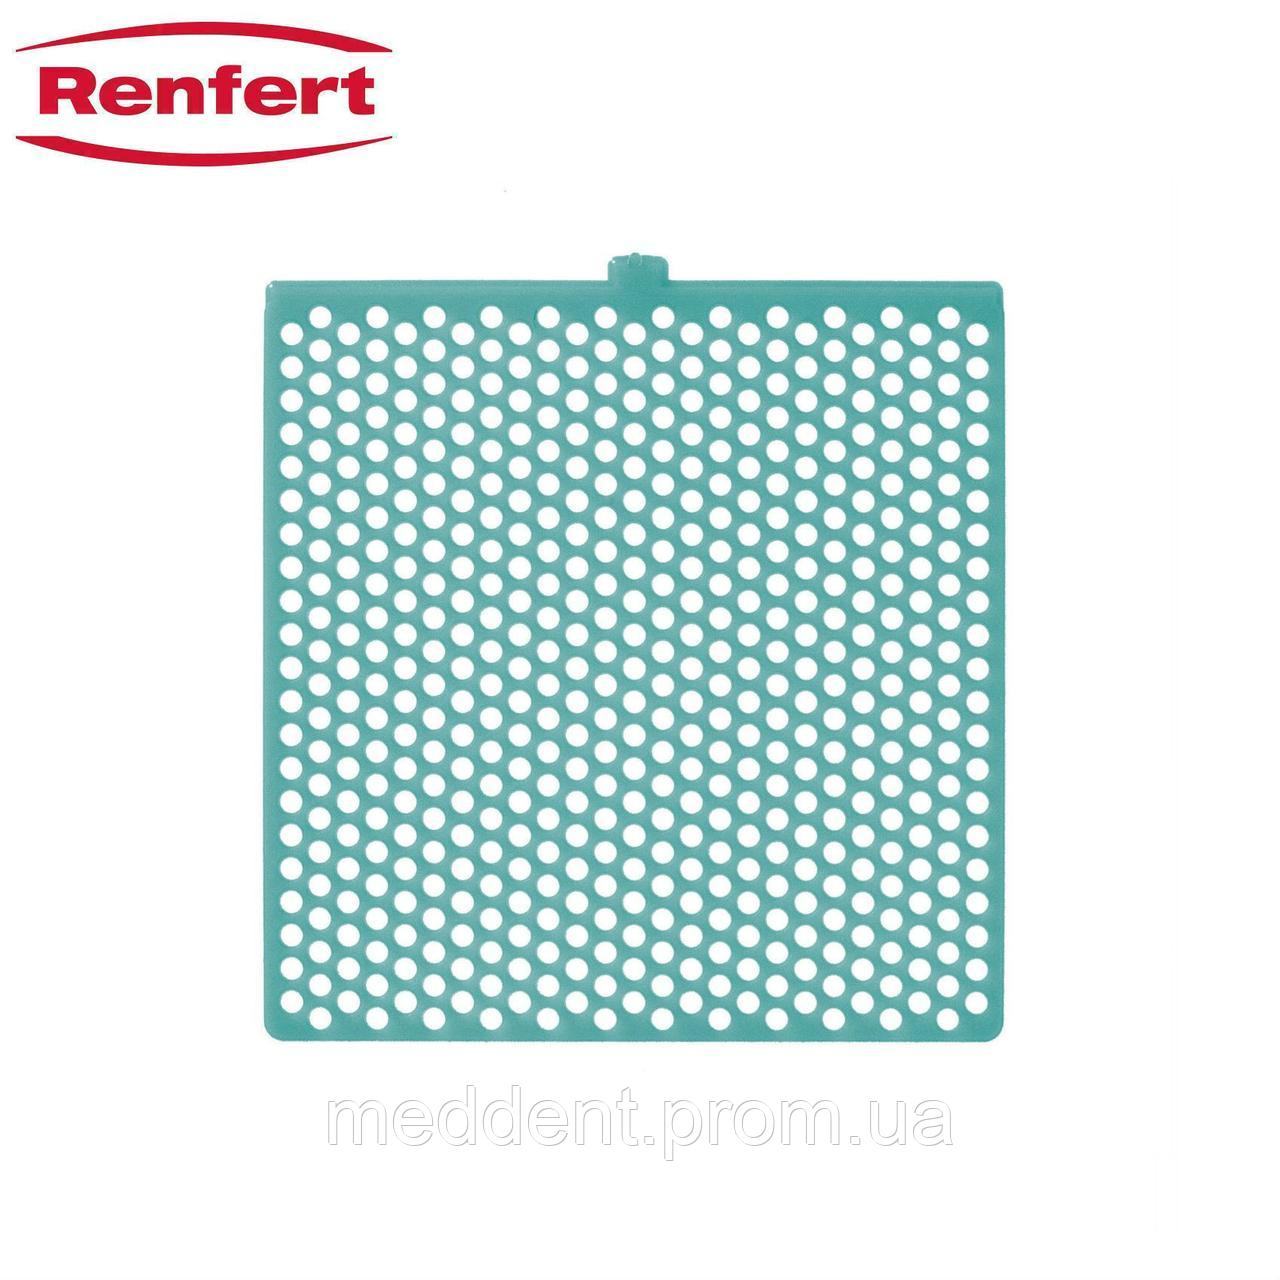Hole: (272, 617, 307, 649), (273, 450, 306, 483), (273, 349, 307, 381), (475, 297, 506, 331), (302, 299, 335, 331), (274, 318, 307, 349), (361, 298, 393, 329), (533, 299, 565, 331), (273, 518, 306, 549), (274, 551, 305, 584), (561, 685, 592, 717), (505, 719, 536, 751), (305, 436, 336, 467), (334, 484, 365, 516), (332, 518, 363, 549), (304, 937, 335, 967), (447, 517, 477, 549), (476, 568, 508, 599), (504, 619, 536, 649), (591, 502, 621, 533), (905, 418, 935, 450), (333, 720, 363, 750), (361, 904, 392, 934), (275, 920, 306, 951), (964, 418, 994, 449), (877, 301, 907, 332), (275, 417, 307, 447), (304, 601, 335, 631), (275, 585, 307, 614), (275, 787, 307, 816), (274, 821, 306, 850), (392, 685, 421, 716), (420, 401, 449, 433), (964, 318, 993, 349), (791, 887, 824, 915), (274, 384, 305, 414), (305, 401, 334, 431), (304, 469, 334, 498), (306, 535, 335, 565), (361, 837, 392, 866), (333, 920, 363, 949), (275, 987, 306, 1016), (306, 1003, 335, 1034), (418, 504, 449, 533), (418, 437, 449, 467), (418, 300, 448, 331), (504, 352, 535, 381), (563, 353, 593, 382), (475, 403, 505, 433), (563, 452, 593, 482), (590, 836, 619, 866), (706, 369, 736, 399), (334, 316, 362, 348), (275, 887, 307, 915), (392, 784, 420, 816), (533, 435, 561, 467), (535, 502, 563, 533), (561, 554, 593, 583), (646, 1005, 678, 1033), (847, 955, 879, 983), (847, 888, 879, 917), (617, 887, 648, 915), (876, 972, 908, 999), (590, 905, 622, 932), (704, 604, 737, 631), (675, 554, 708, 581), (305, 502, 334, 531), (334, 587, 363, 617), (334, 620, 363, 649), (305, 736, 334, 765), (305, 770, 334, 799), (332, 787, 361, 816), (305, 870, 334, 899), (306, 904, 335, 933), (362, 870, 392, 899), (333, 954, 362, 983), (278, 953, 307, 982), (420, 937, 449, 966), (390, 753, 420, 782), (447, 585, 476, 614), (448, 352, 477, 381), (476, 335, 505, 365), (563, 485, 592, 515), (505, 519, 535, 549), (648, 770, 678, 799), (964, 654, 993, 683), (763, 369, 792, 399), (306, 335, 336, 363), (392, 318, 420, 348), (334, 353, 365, 381), (305, 369, 335, 397), (363, 467, 392, 497), (363, 502, 392, 532), (277, 486, 307, 515), (363, 536, 392, 566), (275, 853, 306, 881), (448, 921, 478, 949), (420, 737, 450, 765), (418, 536, 449, 564), (448, 552, 476, 583), (476, 370, 506, 399), (561, 386, 592, 414), (475, 469, 505, 497), (504, 486, 535, 515), (477, 536, 505, 566), (563, 585, 591, 615), (563, 653, 591, 683), (620, 987, 648, 1017), (961, 989, 992, 1017), (847, 921, 878, 949), (619, 819, 649, 847), (620, 754, 651, 782), (964, 755, 994, 783), (964, 687, 992, 717), (619, 654, 649, 682), (878, 605, 908, 633), (590, 335, 620, 363), (275, 754, 307, 781), (564, 719, 591, 750), (791, 922, 823, 949), (591, 873, 622, 900), (704, 670, 736, 697), (964, 485, 990, 517), (676, 387, 708, 414), (362, 403, 392, 431), (363, 436, 392, 465), (362, 568, 392, 597), (363, 636, 393, 665), (363, 702, 392, 731), (305, 670, 334, 699), (275, 653, 305, 681), (362, 770, 390, 799), (305, 804, 334, 832), (362, 802, 390, 831), (332, 887, 361, 915), (392, 986, 420, 1015), (392, 955, 421, 983), (420, 771, 449, 799), (448, 753, 476, 782), (390, 720, 418, 749), (447, 619, 475, 648), (390, 486, 418, 516), (449, 486, 478, 515), (392, 452, 420, 482), (448, 420, 476, 449), (561, 319, 591, 347), (535, 368, 563, 397), (506, 418, 535, 448), (478, 504, 508, 532), (505, 553, 535, 581), (505, 686, 535, 714), (476, 703, 504, 733), (505, 822, 535, 850), (533, 838, 563, 866), (505, 955, 535, 983), (535, 1005, 563, 1034), (563, 988, 591, 1017), (961, 955, 990, 983), (706, 937, 735, 965), (964, 921, 992, 951), (821, 872, 850, 900), (964, 721, 993, 749), (678, 721, 707, 749), (620, 688, 649, 716), (849, 587, 877, 617), (764, 604, 794, 632), (849, 554, 878, 583), (762, 504, 791, 532), (965, 452, 993, 482), (735, 486, 764, 515), (878, 369, 906, 399), (791, 386, 819, 415), (734, 386, 762, 415), (964, 353, 993, 381), (935, 302, 964, 332), (361, 338, 392, 365), (333, 418, 363, 445), (334, 554, 365, 581), (365, 602, 392, 633), (306, 635, 333, 666), (361, 670, 392, 697), (275, 720, 306, 747), (361, 971, 392, 998), (392, 922, 422, 949), (392, 888, 422, 915), (392, 584, 418, 614), (418, 570, 449, 597), (420, 470, 447, 501), (392, 418, 418, 449), (508, 318, 535, 348), (504, 454, 535, 481), (535, 568, 561, 599), (563, 787, 590, 817), (477, 772, 508, 799), (905, 955, 935, 982), (704, 972, 735, 999), (619, 921, 649, 948), (763, 937, 790, 967), (821, 937, 847, 967), (821, 907, 851, 934), (964, 586, 990, 617), (906, 588, 937, 615), (849, 318, 876, 348), (907, 352, 934, 382), (332, 755, 363, 781), (821, 539, 852, 565), (731, 723, 765, 747), (334, 384, 362, 413), (363, 369, 392, 397), (335, 452, 363, 481), (334, 821, 362, 849), (362, 1005, 390, 1033), (477, 971, 505, 999), (420, 971, 448, 999), (478, 938, 506, 966), (392, 855, 420, 883), (477, 837, 505, 865), (392, 553, 420, 581), (449, 452, 477, 481), (506, 384, 535, 413), (563, 520, 591, 549), (561, 619, 590, 647), (563, 855, 591, 883), (563, 920, 591, 948), (535, 971, 563, 999), (734, 988, 762, 1016), (763, 1005, 791, 1033), (819, 1005, 847, 1033), (592, 938, 620, 966), (878, 938, 906, 966), (964, 821, 992, 849), (878, 771, 906, 799), (847, 788, 876, 816), (791, 822, 819, 850), (821, 805, 849, 833), (591, 737, 619, 765), (734, 755, 762, 783), (592, 703, 620, 731), (676, 687, 704, 715), (935, 670, 964, 699), (621, 621, 649, 649), (935, 604, 964, 632), (622, 554, 651, 583), (620, 520, 648, 549), (906, 486, 934, 515), (734, 452, 762, 481), (792, 452, 821, 481), (935, 404, 964, 433), (935, 370, 964, 399), (764, 304, 792, 332), (792, 353, 821, 381), (821, 302, 849, 331), (305, 570, 334, 597), (334, 652, 361, 681), (275, 687, 305, 714), (363, 736, 390, 765), (307, 837, 334, 866), (335, 987, 362, 1016), (448, 955, 477, 982), (476, 906, 505, 933), (421, 870, 448, 899), (450, 787, 477, 816), (449, 688, 476, 717), (392, 384, 418, 414), (449, 384, 476, 414), (390, 353, 420, 380), (449, 319, 478, 346), (475, 436, 504, 463), (505, 588, 535, 615), (563, 754, 590, 783), (505, 755, 535, 782), (535, 804, 561, 833), (564, 821, 591, 850), (678, 988, 704, 1017), (821, 972, 850, 999), (905, 888, 934, 915), (734, 888, 763, 915), (735, 855, 764, 881), (791, 855, 821, 881), (964, 855, 993, 881), (821, 770, 847, 799), (934, 738, 964, 765), (878, 737, 905, 767), (791, 722, 821, 749), (648, 704, 678, 731), (591, 669, 618, 699), (794, 687, 821, 716), (822, 704, 849, 734), (878, 704, 907, 731), (792, 620, 819, 649), (792, 588, 822, 615), (734, 588, 763, 615), (676, 588, 706, 615), (707, 571, 736, 598), (734, 554, 763, 581), (734, 520, 763, 547), (849, 488, 878, 515), (678, 454, 707, 481), (964, 384, 990, 414), (735, 354, 764, 381), (306, 972, 336, 998), (619, 955, 649, 981), (704, 872, 735, 898), (704, 704, 735, 730), (620, 722, 651, 748), (821, 673, 851, 699), (591, 638, 621, 663), (620, 588, 651, 614), (935, 502, 961, 532), (333, 855, 361, 881), (363, 938, 390, 966), (420, 1005, 448, 1032), (478, 1005, 506, 1032), (420, 905, 448, 932), (421, 838, 448, 866), (421, 703, 448, 731), (448, 722, 476, 749), (418, 670, 447, 697), (449, 653, 476, 681), (421, 602, 448, 631), (392, 520, 420, 547), (421, 336, 448, 365), (535, 336, 561, 365), (563, 418, 590, 447), (535, 470, 563, 497), (535, 537, 561, 565), (535, 602, 561, 631), (477, 604, 505, 631), (506, 654, 535, 681), (535, 704, 563, 731), (535, 738, 563, 765), (563, 888, 591, 915), (508, 989, 535, 1017), (791, 988, 818, 1016), (877, 1005, 904, 1033), (934, 972, 962, 999), (592, 971, 619, 999), (906, 922, 934, 949), (649, 837, 676, 865), (935, 804, 962, 832), (964, 788, 990, 816), (908, 822, 935, 850), (763, 805, 791, 832), (706, 772, 734, 799), (651, 805, 678, 833), (619, 787, 647, 813), (821, 738, 849, 765), (877, 673, 905, 700), (735, 655, 763, 682), (649, 638, 678, 665), (592, 604, 619, 632), (964, 620, 990, 648), (821, 605, 849, 632), (678, 520, 704, 549), (908, 554, 935, 583), (964, 554, 990, 583), (964, 520, 990, 549), (878, 537, 905, 565), (794, 522, 822, 549), (935, 470, 964, 497), (791, 488, 819, 515), (678, 486, 704, 515), (648, 470, 676, 497), (621, 488, 649, 515), (621, 452, 648, 481), (706, 437, 734, 464), (879, 437, 906, 465), (821, 437, 847, 465), (821, 370, 847, 399), (651, 370, 678, 399), (621, 387, 649, 414), (593, 302, 620, 331), (619, 320, 647, 347), (649, 302, 676, 331), (678, 320, 706, 347), (878, 336, 905, 365), (535, 402, 560, 431), (535, 672, 564, 697), (505, 788, 535, 813), (906, 988, 932, 1017), (734, 922, 763, 948), (591, 805, 620, 831), (591, 771, 620, 797), (907, 754, 933, 783), (906, 656, 935, 682), (792, 656, 822, 682), (850, 520, 876, 550), (937, 937, 961, 967), (704, 806, 735, 831), (620, 422, 651, 447), (306, 704, 333, 731), (449, 888, 476, 915), (449, 855, 476, 881), (449, 823, 476, 850), (392, 621, 418, 648), (535, 772, 561, 799), (508, 855, 535, 881), (591, 1005, 618, 1032), (849, 988, 876, 1015), (735, 955, 762, 982), (678, 955, 704, 982), (964, 890, 990, 917), (678, 922, 704, 949), (649, 871, 676, 898), (678, 855, 704, 881), (849, 855, 876, 881), (935, 840, 962, 867), (678, 754, 704, 781), (649, 738, 676, 765), (849, 755, 876, 782), (907, 722, 934, 749), (763, 704, 790, 731), (850, 689, 877, 716), (935, 638, 962, 665), (821, 639, 847, 666), (764, 672, 791, 699), (649, 604, 676, 631), (937, 571, 964, 598), (706, 538, 733, 565), (763, 438, 790, 465), (935, 437, 962, 464), (707, 302, 734, 329), (707, 338, 734, 365), (792, 319, 819, 346), (335, 688, 363, 714), (478, 871, 504, 899), (420, 803, 445, 831), (420, 635, 445, 663), (421, 369, 447, 397), (535, 639, 563, 665), (477, 738, 505, 764), (506, 890, 535, 915), (508, 922, 536, 948), (791, 956, 819, 982), (649, 972, 678, 998), (935, 873, 964, 899), (706, 906, 734, 932), (792, 788, 821, 813), (707, 838, 735, 864), (735, 788, 761, 816), (763, 772, 791, 798), (792, 755, 818, 783), (649, 672, 678, 697), (908, 688, 934, 716), (849, 656, 877, 682), (706, 638, 734, 663), (678, 656, 706, 682), (735, 622, 763, 648), (908, 620, 934, 648), (651, 571, 676, 599), (593, 570, 619, 598), (592, 538, 620, 564), (906, 522, 934, 547), (821, 505, 849, 531), (707, 471, 735, 497), (592, 470, 620, 496), (850, 454, 876, 482), (907, 454, 933, 482), (678, 421, 706, 447), (907, 388, 935, 414), (679, 354, 704, 382), (822, 336, 847, 365), (390, 655, 420, 680), (763, 840, 792, 865), (449, 988, 476, 1014), (535, 872, 561, 898), (536, 905, 561, 932), (535, 939, 561, 965), (564, 956, 591, 982), (706, 1005, 731, 1032), (934, 1005, 960, 1032), (764, 973, 791, 999), (878, 906, 905, 932), (879, 873, 906, 899), (765, 872, 791, 899), (678, 888, 704, 914), (620, 856, 647, 881), (937, 772, 962, 799), (906, 789, 933, 815), (878, 839, 905, 865), (878, 806, 905, 832), (850, 823, 877, 849), (678, 788, 704, 813), (678, 822, 704, 847), (707, 738, 734, 764), (735, 688, 761, 715), (879, 639, 905, 666), (678, 621, 704, 647), (822, 572, 847, 599), (937, 538, 964, 564), (794, 554, 819, 581), (708, 504, 734, 531), (878, 504, 904, 531), (764, 471, 791, 497), (850, 387, 876, 414), (593, 372, 620, 397), (621, 354, 648, 380), (651, 338, 676, 365), (736, 320, 762, 347), (649, 940, 678, 965), (648, 906, 676, 931), (735, 823, 763, 847), (849, 622, 877, 647), (878, 572, 906, 597), (651, 504, 675, 532), (763, 539, 791, 564), (478, 638, 504, 663), (477, 670, 503, 696), (478, 806, 504, 832), (937, 706, 962, 731), (764, 639, 790, 665), (764, 572, 790, 598), (879, 471, 905, 497), (822, 471, 847, 497), (880, 404, 906, 430), (907, 320, 933, 346), (392, 823, 418, 847), (935, 907, 962, 932), (764, 907, 791, 932), (821, 840, 847, 865), (765, 738, 790, 765), (849, 723, 876, 748), (651, 538, 678, 563), (736, 422, 763, 447), (592, 404, 619, 429), (708, 404, 733, 431), (851, 353, 876, 380), (937, 338, 961, 365), (649, 440, 678, 463), (851, 421, 876, 447), (794, 422, 819, 447), (593, 438, 619, 463), (651, 406, 676, 430), (822, 406, 847, 430), (765, 338, 790, 363), (908, 855, 932, 881), (764, 406, 791, 429)
